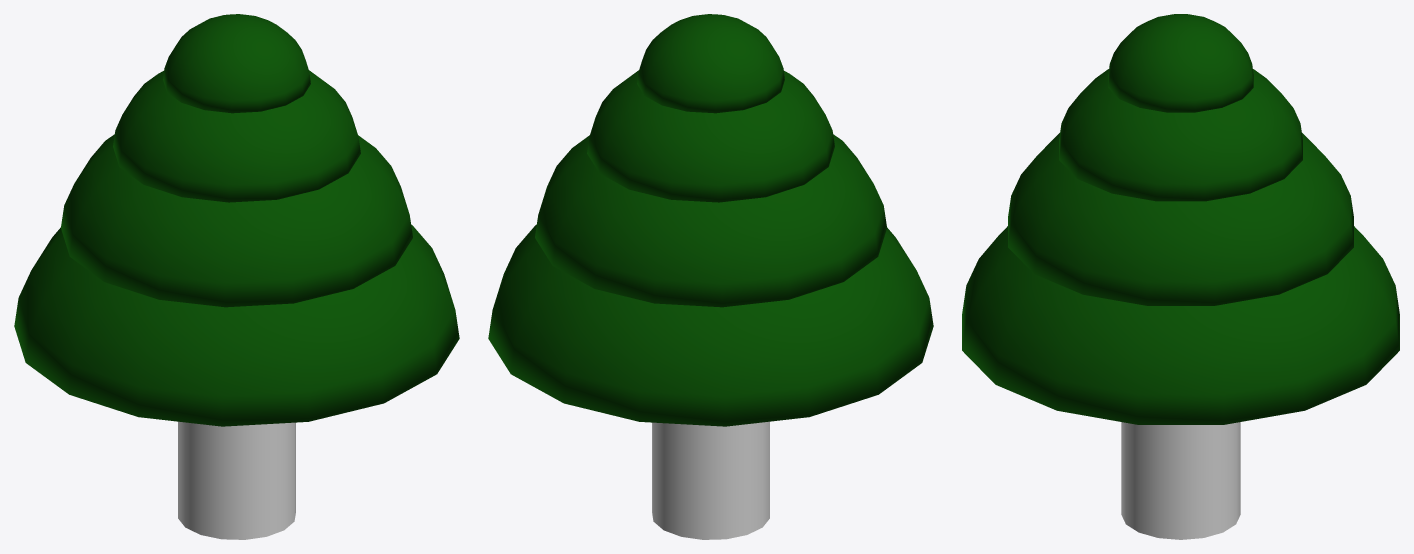
File: ARBOL 1.fbx
3 renders of one model, left to right at view 1: azimuth 30°, elevation 25°; view 2: azimuth 150°, elevation 25°; view 3: azimuth 270°, elevation 25°, orthographic.
Visible parts, largest first — view 1: Cylinder; view 2: Cylinder; view 3: Cylinder.
Boxes of the visible parts, box(x1,y1,x2,y2) form: Cylinder: box(14, 14, 459, 539); Cylinder: box(488, 14, 933, 539); Cylinder: box(962, 14, 1399, 539).
Size of the model in its own units: 1570 by 1953 by 1570.
